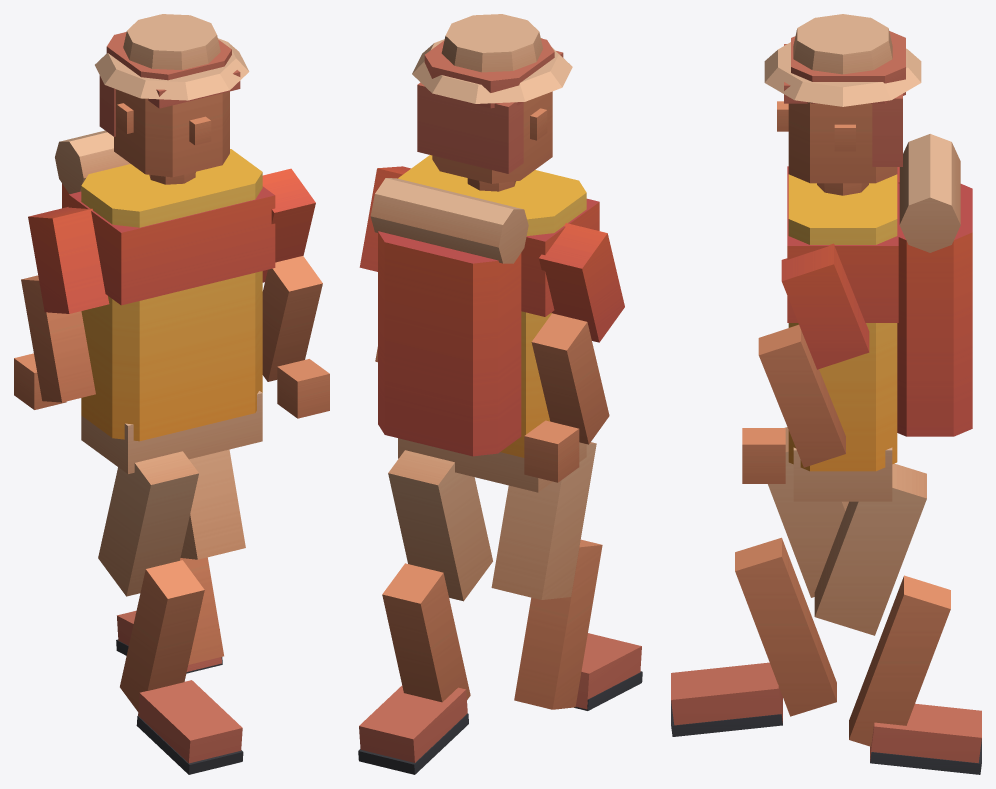
Rendered from citizen_hiker_m.glb.
The picture shows the model from 3 angles, left to right: view 1: azimuth 30°, elevation 25°; view 2: azimuth 150°, elevation 25°; view 3: azimuth 270°, elevation 25°; orthographic projection. The views are drawn at different scales.
Visible parts, largest first — view 1: citizen_hiker_m; view 2: citizen_hiker_m; view 3: citizen_hiker_m.
Part boxes in pixels (x1=…): citizen_hiker_m: x1=14, y1=14, x2=329, y2=774; citizen_hiker_m: x1=358, y1=14, x2=642, y2=774; citizen_hiker_m: x1=671, y1=14, x2=981, y2=774.
Bounding box in the file's own units: 0.598 × 1.66 × 0.6599.
Materials: 1 (1 with a texture image).
